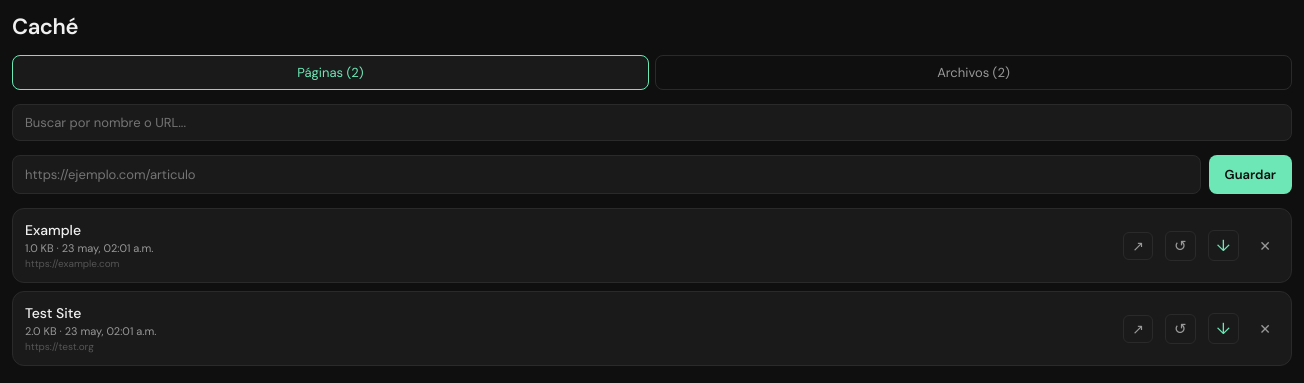
it: CachePage › muestra mensaje "sin resultados" cuando el filtro no coincide
Type "zzznomatch" into the field with placeholder "Buscar por nombre o URL..." at (652,122), box [12, 104, 1292, 141]
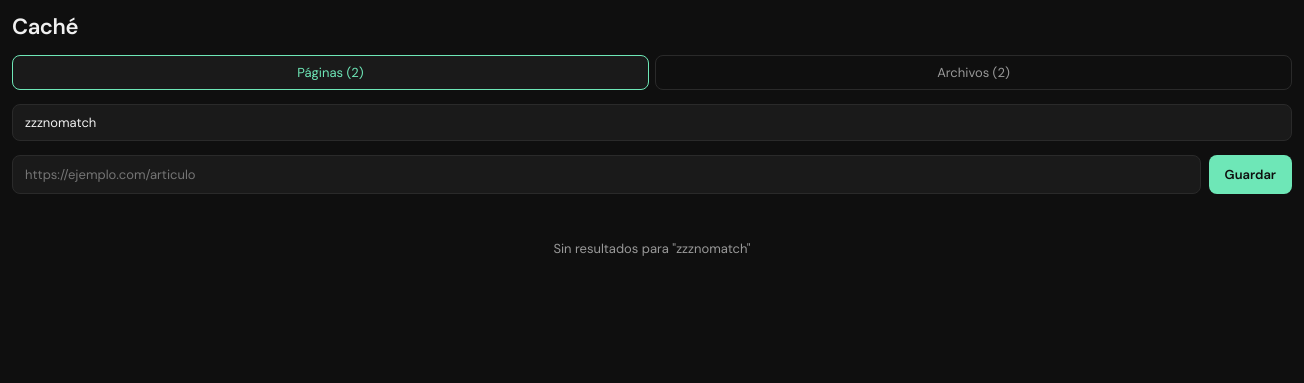
Now the text "Sin resultados para \"zzznomatch\"" is shown, box [553, 240, 751, 257]
